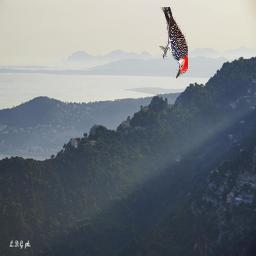Woodpecker: (160, 7, 189, 79)
